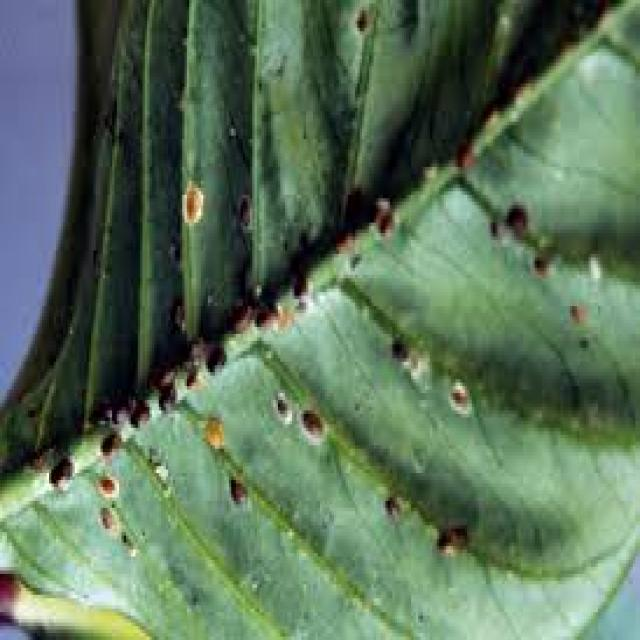scale_insect: (170, 170, 206, 230), (294, 397, 330, 445), (439, 372, 474, 418), (246, 289, 280, 334), (222, 289, 254, 334), (19, 435, 56, 473), (266, 379, 294, 428), (229, 188, 255, 240), (285, 261, 315, 306), (374, 483, 408, 522), (91, 494, 122, 536), (441, 508, 472, 549), (196, 407, 224, 452), (383, 327, 413, 369), (325, 219, 357, 258), (224, 466, 252, 508), (42, 452, 72, 491), (451, 129, 479, 170), (500, 195, 528, 236), (428, 512, 453, 556), (203, 337, 229, 376), (84, 396, 112, 432), (89, 466, 121, 497), (147, 358, 175, 393), (124, 396, 152, 428), (371, 202, 397, 236), (152, 379, 177, 414), (96, 421, 119, 459), (563, 289, 586, 327), (364, 188, 390, 219), (526, 247, 551, 278), (484, 209, 502, 240), (178, 362, 198, 389)
